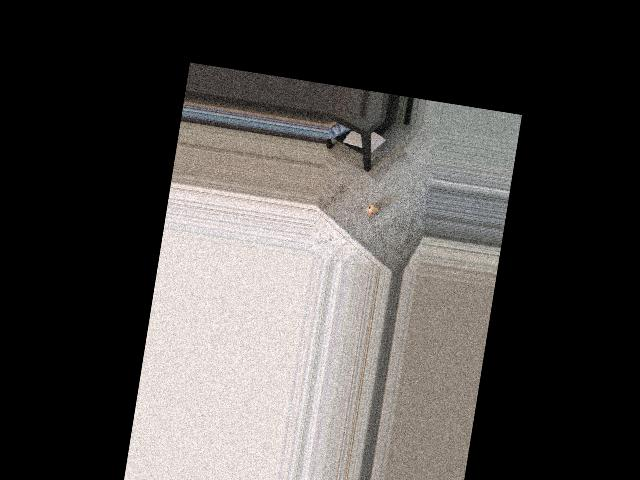onion: (364, 202, 383, 220)
